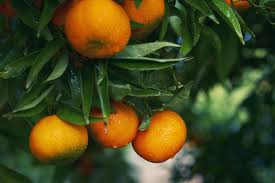orange: (62, 3, 133, 56), (26, 111, 88, 167), (131, 109, 188, 163), (86, 98, 140, 151)
